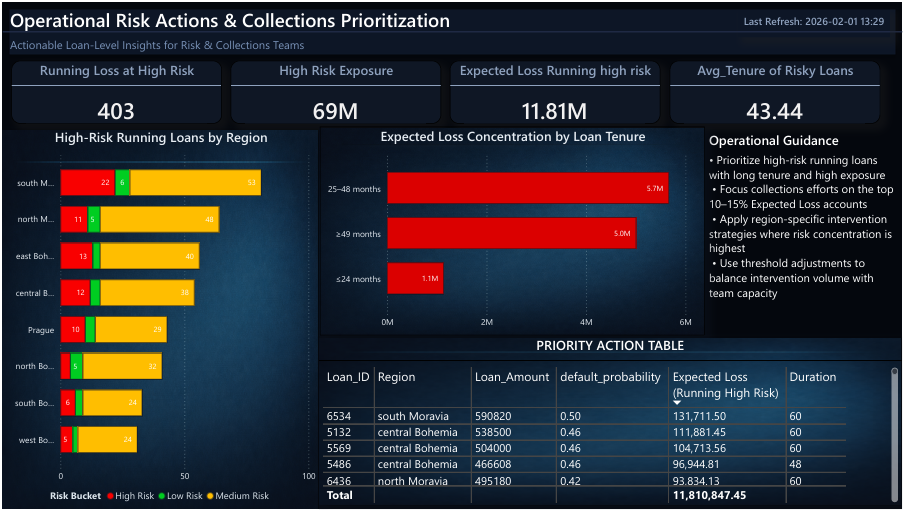

The dashboard page shown, as its layout file describes it:
{"tool":"powerbi","page":{"name":"Operational Risk Actions & Collections Prioritization","canvas":[1280,720],"ordinal":3},"visuals":[{"type":"shape","box":[0,0,1280,83.1],"z":0},{"type":"image","box":[450.3,477,827.6,236.9],"z":0,"group":"g5"},{"type":"group","id":"g1","title":"Group 1","box":[450.3,176.2,549.7,297.2],"z":500,"group":"g4"},{"type":"group","id":"g2","title":"Group 1","box":[0,178,450.3,542.8],"z":500,"group":"g3"},{"type":"textbox","box":[4.6,0,696.8,49.2],"z":1000},{"type":"image","box":[450.3,178.3,548.1,294.9],"z":1000,"group":"g1"},{"type":"image","box":[0,181.9,449,538.6],"z":1000,"group":"g2"},{"type":"barChart","title":"Expected Loss Concentration by Loan Tenure","fields":{"Category":["Master_Table.Tenure Bucket"],"Y":["Buisness Measures.Expected Loss (Running High Risk)"]},"box":[451.1,176.2,548.1,297],"z":1500,"group":"g1"},{"type":"barChart","title":"High-Risk Running Loans by Region","fields":{"Series":["Master_Table.Risk Bucket"],"Y":["CountNonNull(Master_Table.Loan_ID)"],"Category":["Master_Table.Region"]},"box":[0.6,178,449,542.5],"z":1500,"group":"g2"},{"type":"textbox","box":[4.6,43.1,679.8,35.4],"z":2000},{"type":"shape","box":[0,35.3,1280,11.2],"z":3000},{"type":"card","title":"Total Loans","fields":{"Values":["Key_Measures.Last Refresh"]},"box":[1045.9,7.7,216.9,41.5],"z":4000},{"type":"cardVisual","title":"Running Loss at High Risk","fields":{"Data":["Buisness Measures.Running Loans at High Risk"]},"box":[11.5,81.6,300,90],"z":5000},{"type":"cardVisual","title":"High Risk Exposure","fields":{"Data":["Buisness Measures.High Risk Exposure"]},"box":[324.3,81.6,300,90],"z":6000},{"type":"cardVisual","title":"Expected Loss Running high risk","fields":{"Data":["Buisness Measures.Expected Loss (Running High Risk)"]},"box":[635.9,81.6,300,90],"z":7000},{"type":"cardVisual","title":"Avg_Tenure of Risky Loans","fields":{"Data":["Buisness Measures.Avg Tenure of Risky Loans"]},"box":[948.7,81.6,300,90],"z":8000},{"type":"group","id":"g3","title":"Group 3","box":[0,178,450.3,542.8],"z":9000},{"type":"textbox","title":"Operational Guidance","box":[1000.2,181.5,279.4,291.9],"z":10000},{"type":"group","id":"g4","title":"Group 3","box":[450.3,176.2,550,297.2],"z":11000},{"type":"group","id":"g5","title":"Group 1","box":[450.3,473.4,829.4,242.1],"z":12000},{"type":"tableEx","title":"PRIORITY ACTION TABLE","fields":{"Values":["Master_Table.Loan_ID","Master_Table.Region","Master_Table.Loan_Amount","Master_Table.default_probability","Buisness Measures.Expected Loss (Running High Risk)","Master_Table.Duration"]},"box":[450.3,473.4,829.4,242.1],"z":12000,"group":"g5"}]}

Visuals, with their boxes in screenshot pixels (x1, y1, x2, y2), scaled from the page's 1280x720 canvas onto the 905x511 screenshot:
shape: x1=0 y1=0 x2=904 y2=59
image: x1=318 y1=339 x2=904 y2=507
"Group 1" group: x1=318 y1=125 x2=707 y2=336
"Group 1" group: x1=0 y1=126 x2=318 y2=510
textbox: x1=3 y1=0 x2=496 y2=35
image: x1=318 y1=127 x2=706 y2=336
image: x1=0 y1=129 x2=317 y2=510
"Expected Loss Concentration by Loan Tenure" barChart: x1=319 y1=125 x2=706 y2=336
"High-Risk Running Loans by Region" barChart: x1=0 y1=126 x2=318 y2=510
textbox: x1=3 y1=31 x2=484 y2=56
shape: x1=0 y1=25 x2=904 y2=33
"Total Loans" card: x1=739 y1=5 x2=893 y2=35
"Running Loss at High Risk" cardVisual: x1=8 y1=58 x2=220 y2=122
"High Risk Exposure" cardVisual: x1=229 y1=58 x2=441 y2=122
"Expected Loss Running high risk" cardVisual: x1=450 y1=58 x2=662 y2=122
"Avg_Tenure of Risky Loans" cardVisual: x1=671 y1=58 x2=883 y2=122
"Group 3" group: x1=0 y1=126 x2=318 y2=510
"Operational Guidance" textbox: x1=707 y1=129 x2=904 y2=336
"Group 3" group: x1=318 y1=125 x2=707 y2=336
"Group 1" group: x1=318 y1=336 x2=904 y2=508
"PRIORITY ACTION TABLE" tableEx: x1=318 y1=336 x2=904 y2=508
